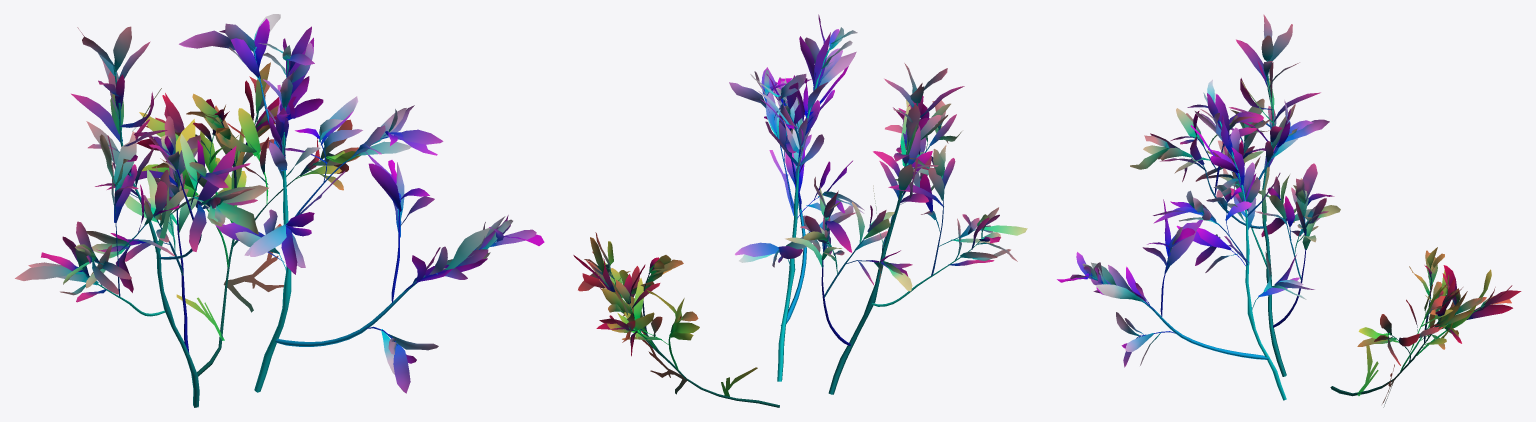
Rendered from Downy_Willow_wknlfiuqx_Mid_wknlfiuqx_VarC_LOD0.fbx.
The picture shows the model from 3 angles, left to right: view 1: azimuth 30°, elevation 25°; view 2: azimuth 150°, elevation 25°; view 3: azimuth 270°, elevation 25°; orthographic projection. The views are drawn at different scales.
Parts seen in each view (by area): view 1: _d8ey_VarC_LOD1; view 2: _d8ey_VarC_LOD1; view 3: _d8ey_VarC_LOD1.
Boxes of the visible parts, x1,y1,x2,y2 form: _d8ey_VarC_LOD1: [15, 14, 544, 407]; _d8ey_VarC_LOD1: [573, 14, 1027, 407]; _d8ey_VarC_LOD1: [1057, 14, 1521, 407].
Bounding box in the file's own units: 76.24 × 69.9 × 93.11.
